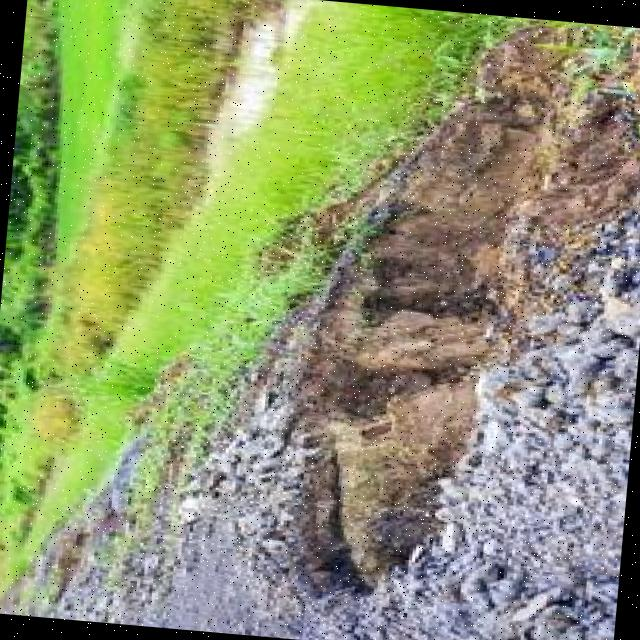road collapse: (187, 68, 640, 624)
